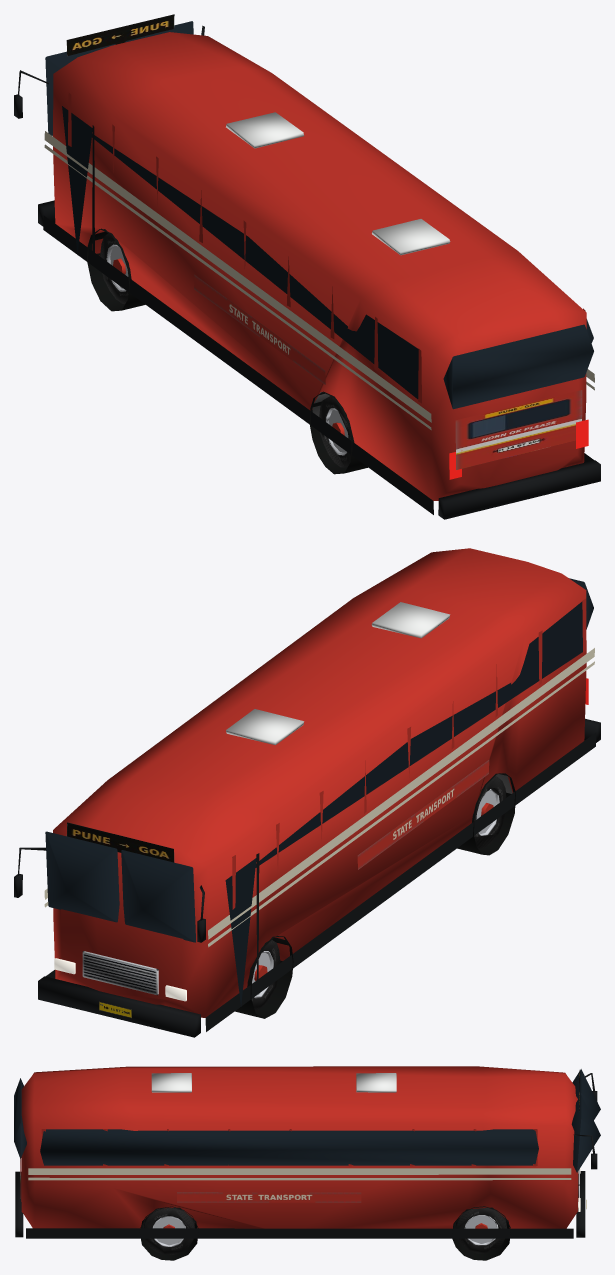
File: bus_far.glb
The picture shows the model from 3 angles, top to bottom: view 1: azimuth 30°, elevation 25°; view 2: azimuth 150°, elevation 25°; view 3: azimuth 270°, elevation 25°; orthographic projection. The views are drawn at different scales.
Visible parts, largest first — view 1: bus_BusPaint, bus_Parts, bus_Glass, bus_Tyre; view 2: bus_BusPaint, bus_Parts, bus_Glass, bus_Tyre, bus_Lamps; view 3: bus_BusPaint, bus_Glass, bus_Parts, bus_Tyre.
Part boxes in pixels (box(x1,y1,x2,y2)): bus_BusPaint: box(53, 32, 586, 500); bus_Parts: box(14, 14, 600, 519); bus_Glass: box(45, 21, 593, 409); bus_Tyre: box(100, 233, 351, 467); bus_BusPaint: box(53, 548, 586, 1017); bus_Parts: box(14, 602, 600, 1037); bus_Glass: box(45, 578, 593, 1006); bus_Tyre: box(251, 776, 506, 1010); bus_Lamps: box(54, 678, 588, 1001); bus_BusPaint: box(21, 1066, 578, 1228); bus_Glass: box(14, 1069, 600, 1172); bus_Parts: box(15, 1070, 597, 1260); bus_Tyre: box(143, 1207, 506, 1254).
Size of the model in its own units: 2.97 by 3.26 by 11.47.
Materials: 5 (3 with a texture image).
